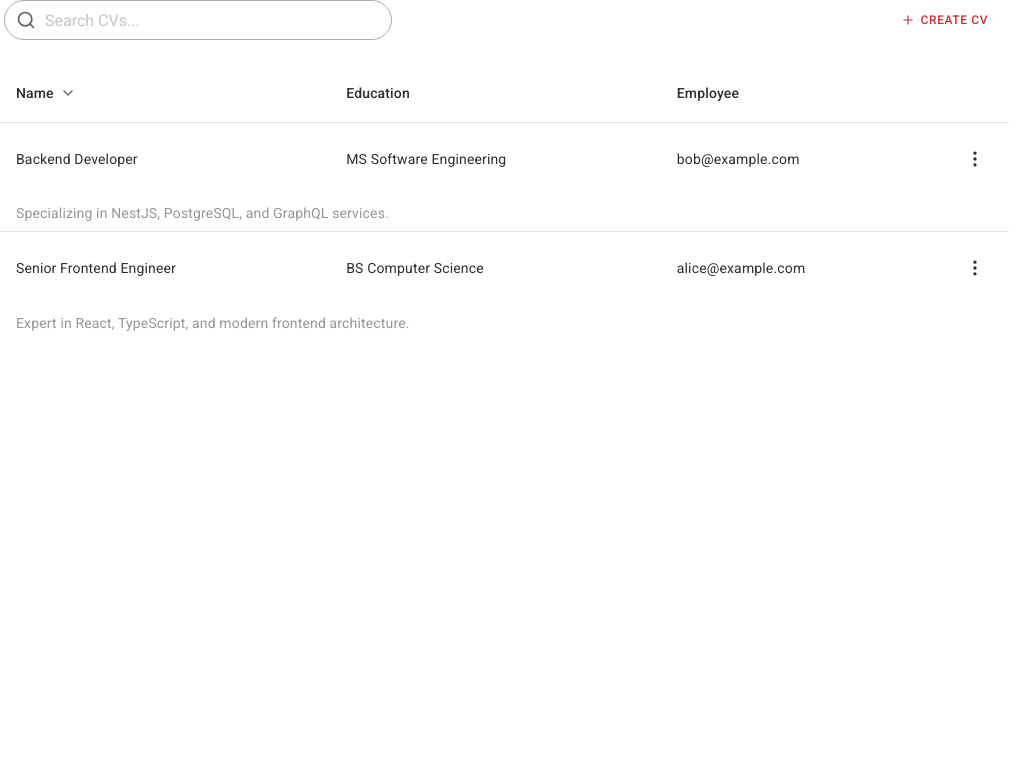
Test: CVTable Component › opens Delete CV dialog when clicking Delete in row dropdown
The image size is (1024, 768).
Click the button named "actions for user cv-". click: point(975, 159)
box: [957,141,993,177]
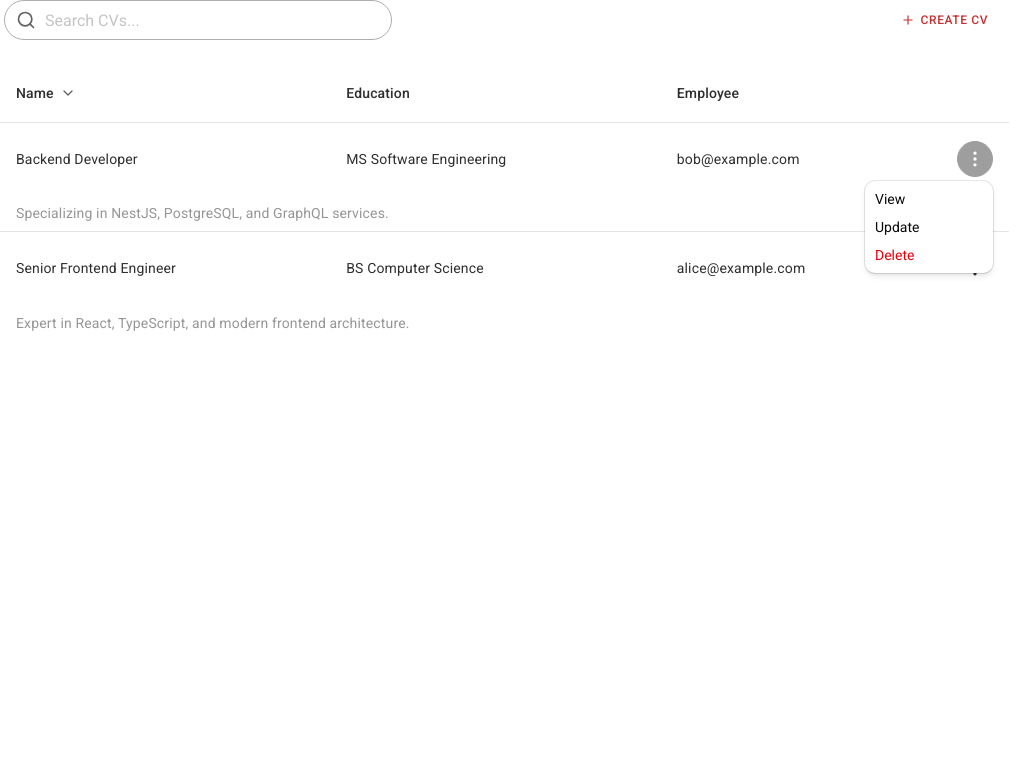
Click the menu item "Delete". click: point(895, 255)
box: [875,247,914,263]
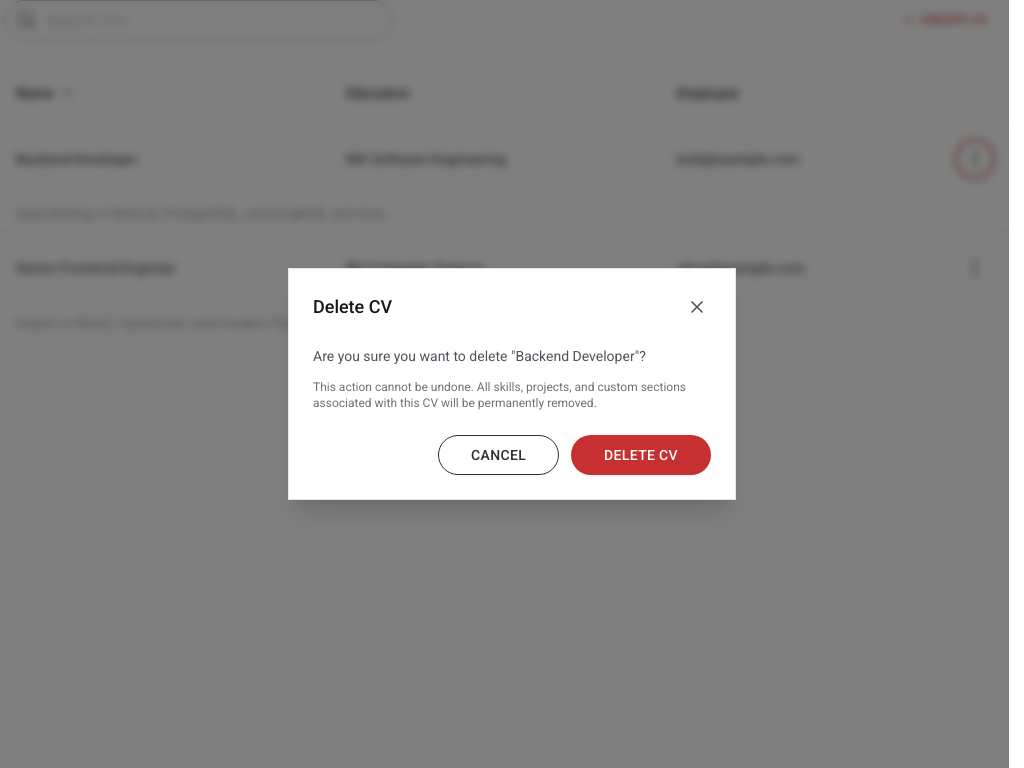
Now the heading "Delete CV" is shown, box [313,293,392,321]
Now the text "Are you sure you want to delete \"Backend Developer\"?" is shown, box [313,348,646,364]
